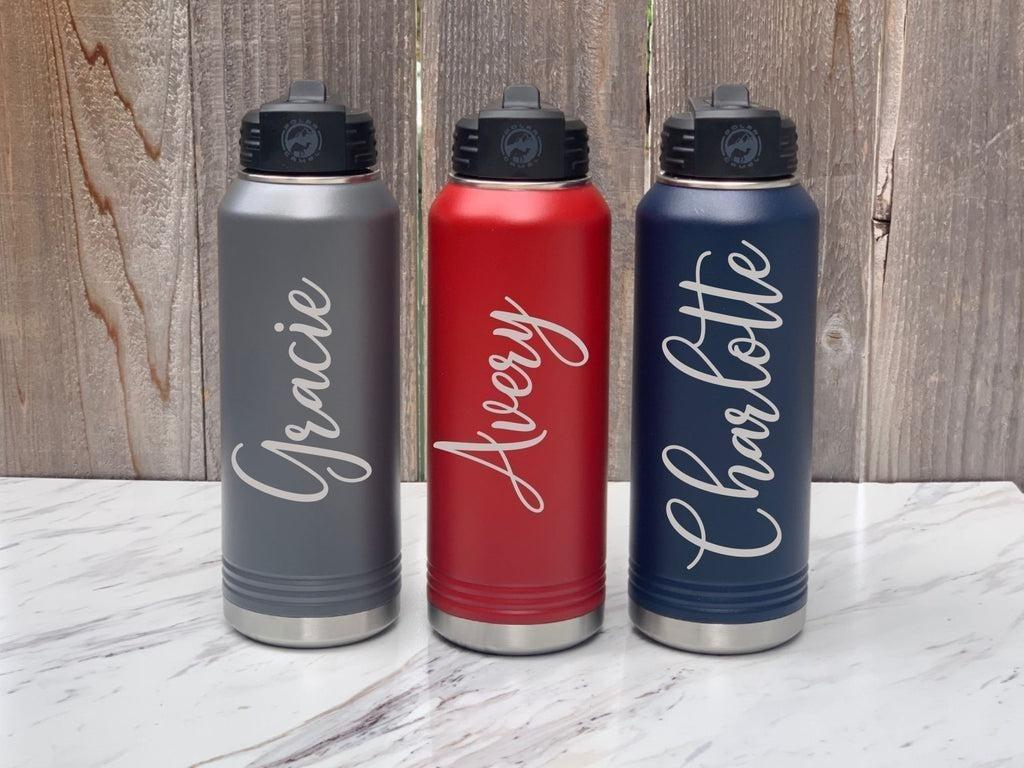gym bottle: (625, 82, 823, 661), (421, 84, 616, 660), (213, 82, 407, 654)
